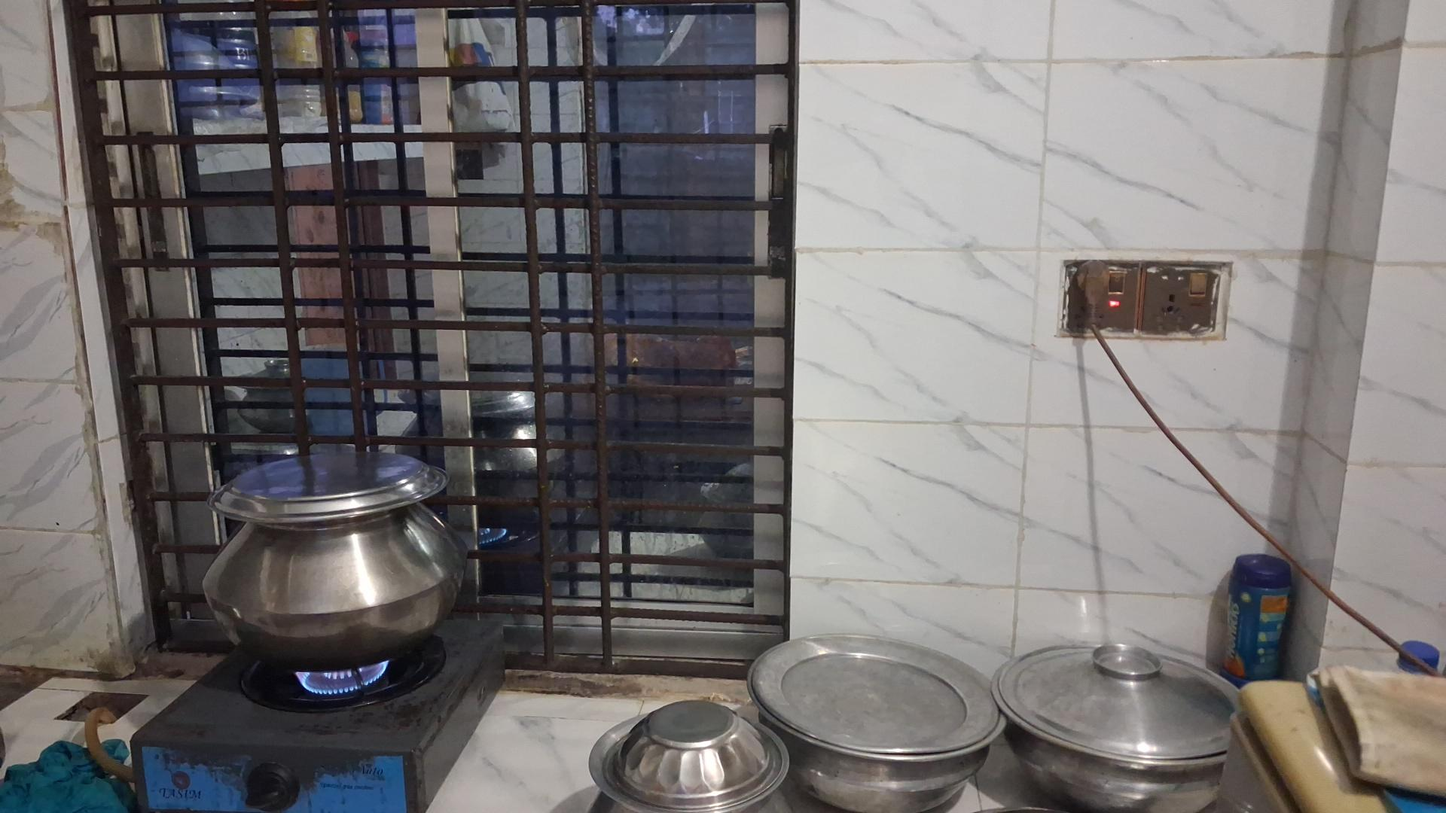Bowl: (612, 699, 782, 802)
Jar: (1225, 553, 1294, 686)
Pot: (207, 463, 465, 672), (989, 640, 1261, 813), (748, 638, 1006, 802)
Window: (72, 2, 787, 691)
